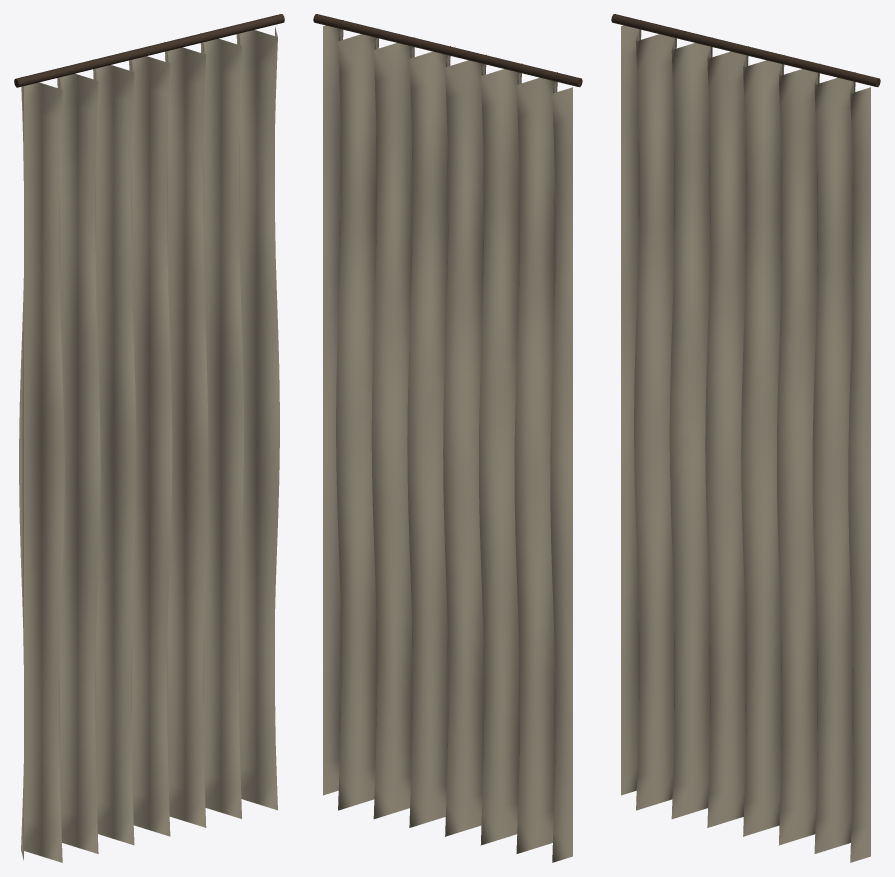
File: prop-hanging-drape-v01.glb
3 views of the same model, side by side, from view 1: azimuth 30°, elevation 25°; view 2: azimuth 150°, elevation 25°; view 3: azimuth 330°, elevation 25° (orthographic).
Parts seen in each view (by area): view 1: hanging-drape; view 2: hanging-drape; view 3: hanging-drape.
Boxes of the visible parts, x1,y1,x2,y2 form: hanging-drape: [14, 14, 284, 862]; hanging-drape: [313, 14, 582, 862]; hanging-drape: [611, 14, 880, 862].
Bounding box in the file's own units: 0.9 × 2.53 × 0.1625.
